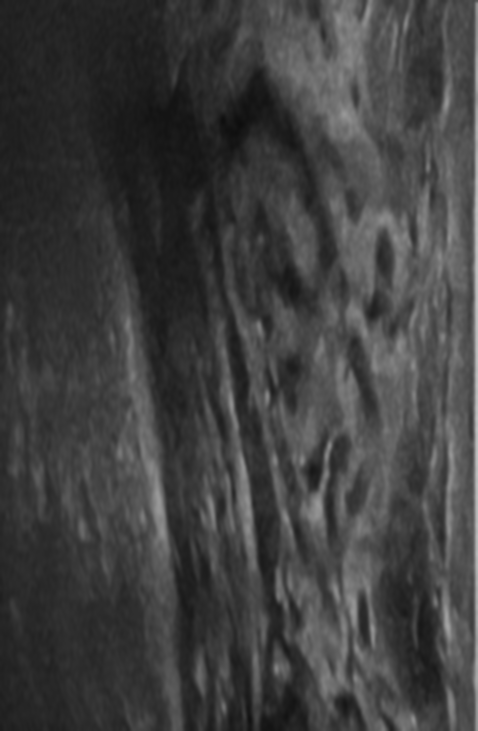Normal: (43, 0, 452, 725)
